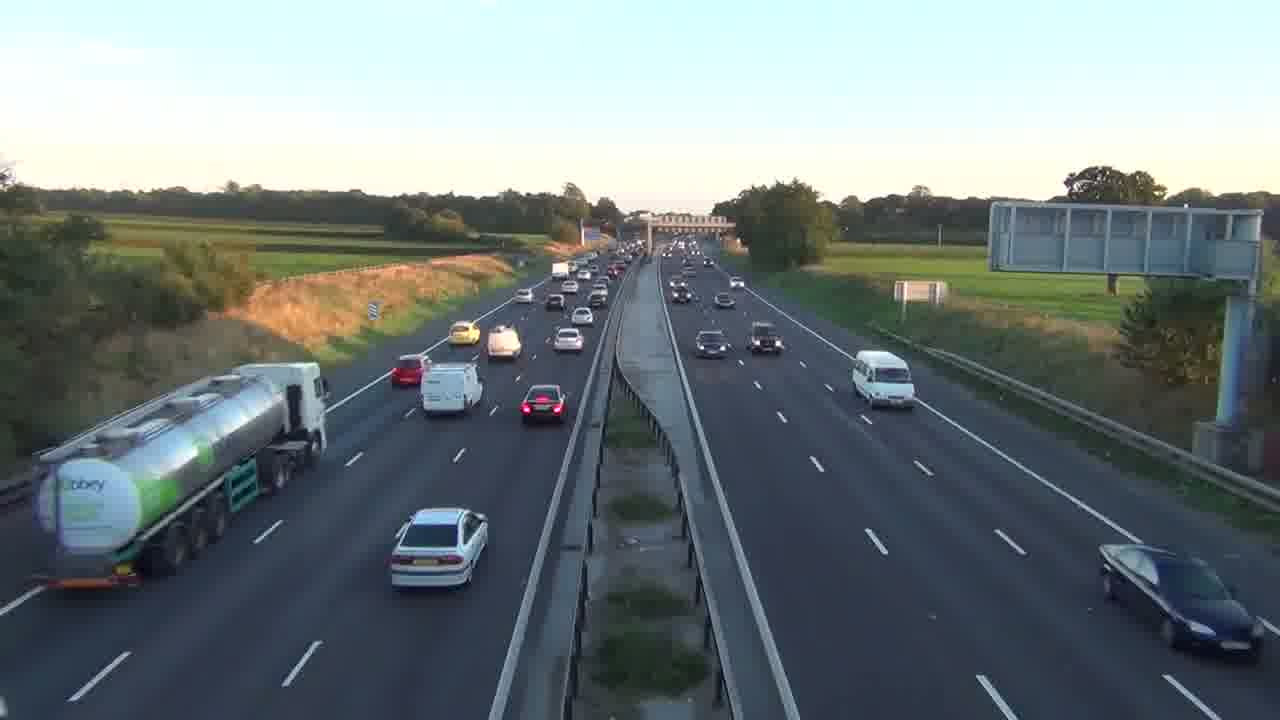car: (387, 506, 490, 592), (519, 384, 568, 423), (390, 353, 430, 389), (695, 329, 731, 358), (550, 327, 585, 355), (447, 320, 481, 346), (571, 306, 594, 326), (713, 291, 737, 309)
truck: (1097, 542, 1264, 660), (850, 348, 915, 410), (420, 360, 483, 416)
